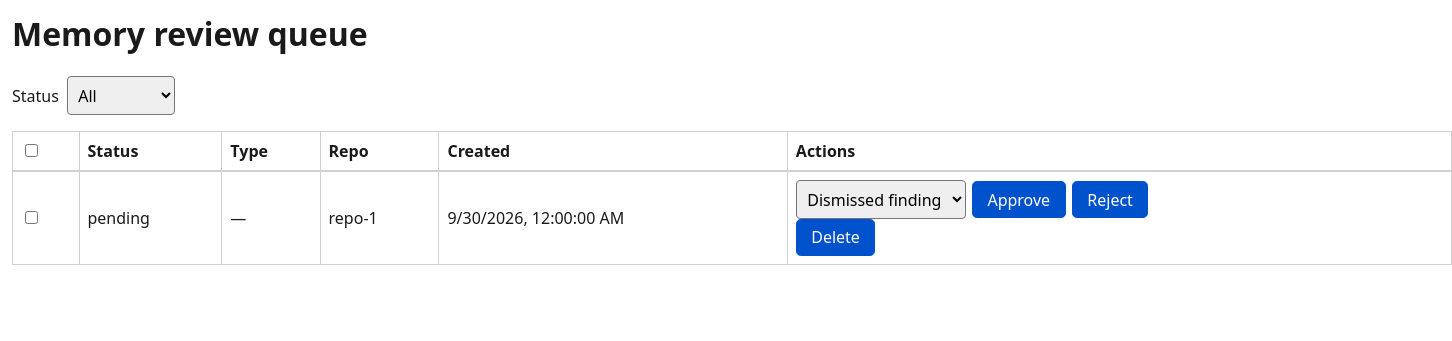
Test case: MemoryQueueScreen › Admin: shows approve/reject/delete controls and a distinct success confirmation on approve
Expected: the text "repo-1" is shown, [320,172,439,264]
Click the button "Approve" at (1019, 200), box [972,181,1066,218]
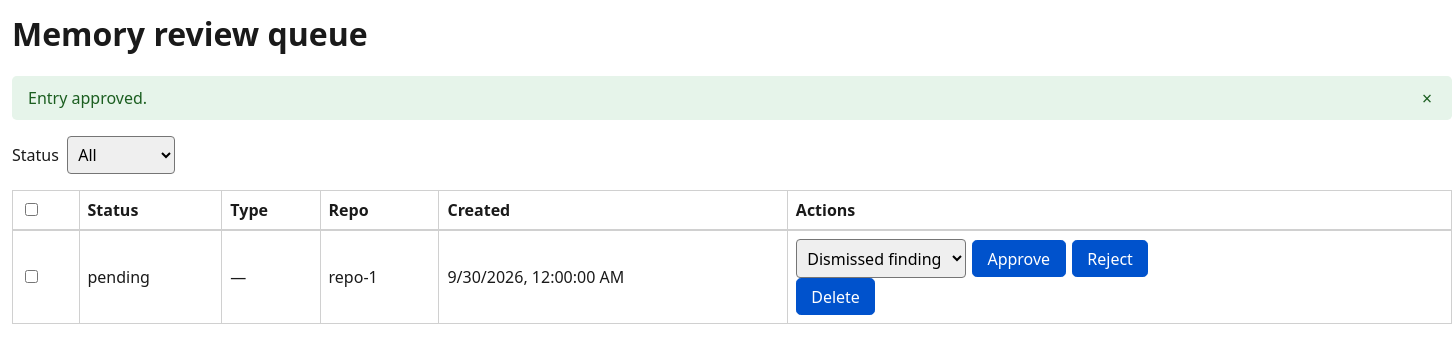
Result: the message with test id "notice" shows "Entry approved" at [28,87,147,109]
